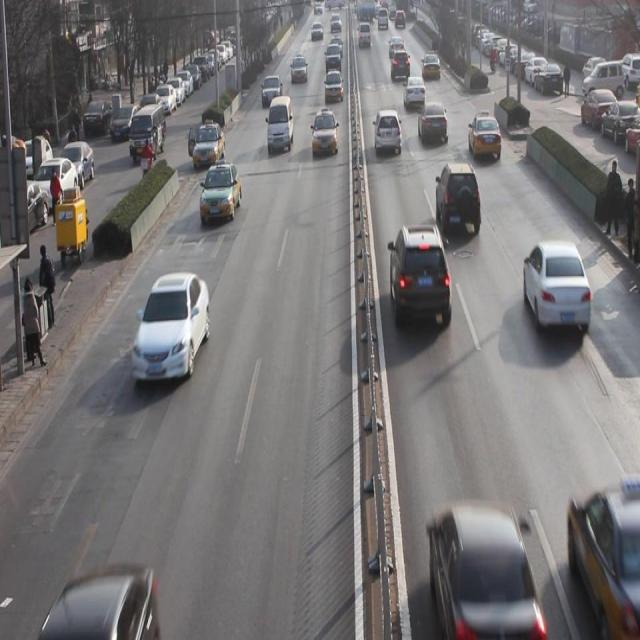car: (426, 499, 543, 632), (132, 278, 212, 382), (389, 224, 453, 331), (523, 239, 591, 338), (436, 160, 484, 239), (200, 163, 242, 225), (468, 112, 503, 162), (193, 120, 226, 166), (418, 100, 449, 145), (373, 108, 402, 155), (312, 111, 338, 157), (405, 74, 427, 110), (261, 72, 282, 106), (324, 69, 345, 103), (422, 50, 443, 80), (392, 48, 411, 80), (290, 54, 308, 83), (325, 44, 342, 70)
truck: (266, 94, 294, 155)
